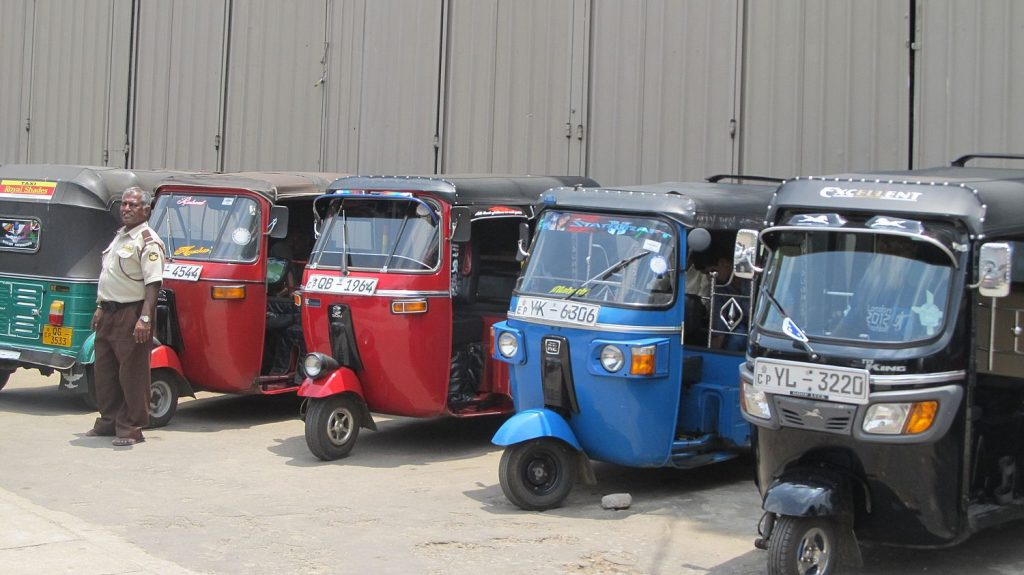tuk tuk: (744, 171, 1021, 575), (493, 185, 775, 508), (293, 175, 553, 461), (164, 164, 296, 422), (1, 162, 93, 414)
